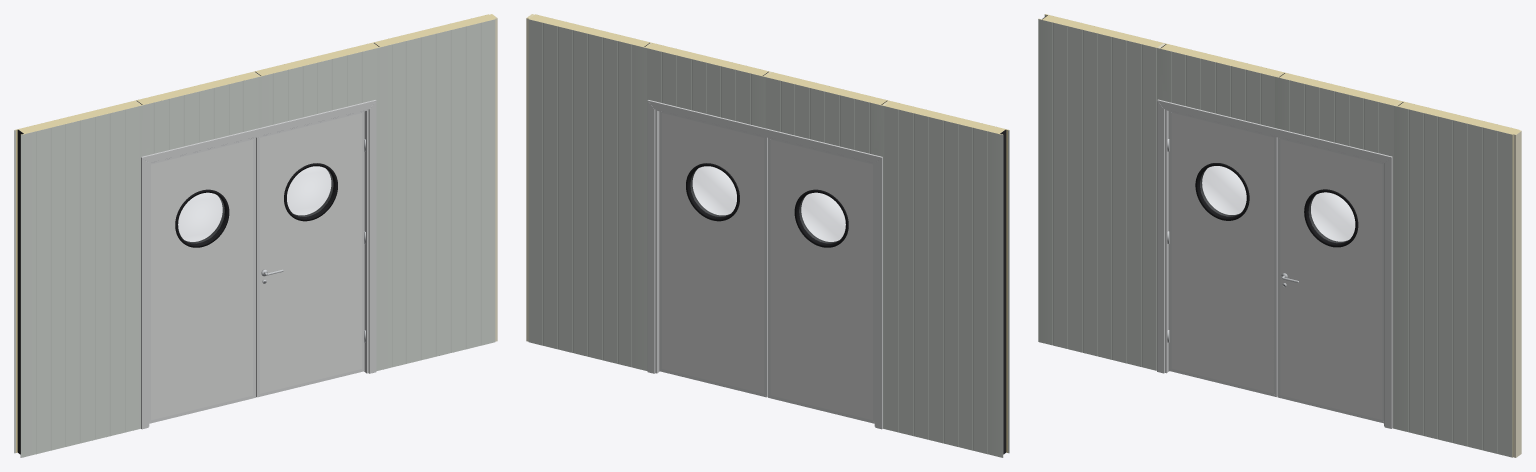
The model's file is clean-double-6x7.glb.
The picture shows the model from 3 angles, left to right: view 1: azimuth 30°, elevation 25°; view 2: azimuth 150°, elevation 25°; view 3: azimuth 330°, elevation 25°; orthographic projection.
Parts seen in each view (by area): view 1: Wall_p0_Steel_top, Wall_p3_Steel_top, SkinF.001, SkinF, Wall_p1_Steel_top, Wall_p2_Steel_top, TrimF_R, TrimF_L, TrimF_T, PortGlass, PortGlass.001, Wall_p0_PIR_core (+14 smaller); view 2: Wall_p0_Steel_bottom, Wall_p3_Steel_bottom, SkinB.001, SkinB, Wall_p1_Steel_bottom, Wall_p2_Steel_bottom, TrimB_R, TrimB_L, TrimB_T, PortGlass, PortGlass.001, Wall_p0_PIR_core (+14 smaller); view 3: Wall_p3_Steel_top, Wall_p0_Steel_top, SkinF.001, SkinF, Wall_p2_Steel_top, Wall_p1_Steel_top, Wall_p3_Tongue_tape, TrimF_R, TrimF_L, TrimF_T, PortGlass, PortGlass.001 (+12 smaller).
Part boxes in pixels (<box>): Wall_p0_Steel_top: <box>20,106,139,457</box>; Wall_p3_Steel_top: <box>377,19,495,370</box>; SkinF.001: <box>151,139,253,420</box>; SkinF: <box>259,113,361,393</box>; Wall_p1_Steel_top: <box>139,77,258,428</box>; Wall_p2_Steel_top: <box>258,48,376,371</box>; TrimF_R: <box>368,101,376,373</box>; TrimF_L: <box>141,157,148,429</box>; TrimF_T: <box>141,100,375,162</box>; PortGlass: <box>178,193,224,243</box>; PortGlass.001: <box>287,166,333,216</box>; Wall_p0_PIR_core: <box>14,101,141,452</box>; Wall_p0_Steel_bottom: <box>884,106,1003,457</box>; Wall_p3_Steel_bottom: <box>528,19,646,370</box>; SkinB.001: <box>770,139,872,420</box>; SkinB: <box>662,113,764,393</box>; Wall_p1_Steel_bottom: <box>765,77,884,428</box>; Wall_p2_Steel_bottom: <box>647,48,765,371</box>; TrimB_R: <box>647,101,655,373</box>; TrimB_L: <box>875,157,882,429</box>; TrimB_T: <box>648,100,882,162</box>; PortGlass: <box>799,193,845,243</box>; PortGlass.001: <box>690,166,736,216</box>; Wall_p0_PIR_core: <box>882,101,1009,452</box>; Wall_p3_Steel_top: <box>1394,105,1512,457</box>; Wall_p0_Steel_top: <box>1038,19,1156,370</box>; SkinF.001: <box>1171,113,1273,393</box>; SkinF: <box>1280,139,1382,419</box>; Wall_p2_Steel_top: <box>1275,77,1393,428</box>; Wall_p1_Steel_top: <box>1157,48,1275,127</box>; Wall_p3_Tongue_tape: <box>1513,131,1521,457</box>; TrimF_R: <box>1384,157,1392,428</box>; TrimF_L: <box>1157,100,1164,373</box>; TrimF_T: <box>1157,99,1391,162</box>; PortGlass: <box>1200,166,1246,216</box>; PortGlass.001: <box>1309,192,1354,242</box>.
Size of the model in its own units: 4.02 by 2.6 by 0.133.
